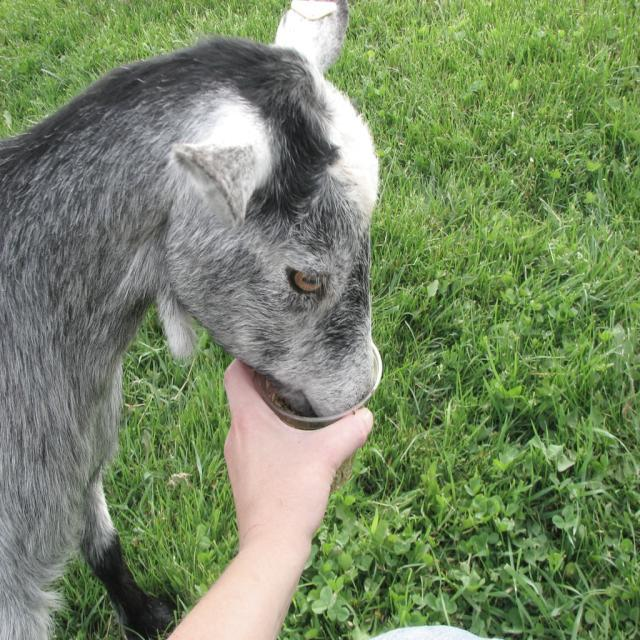Goat: (0, 0, 381, 638)
